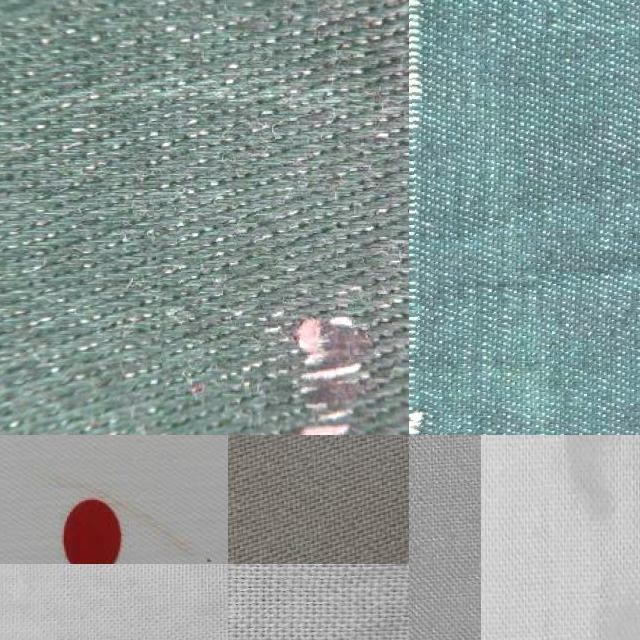stains: (409, 0, 640, 435), (156, 186, 409, 435)
